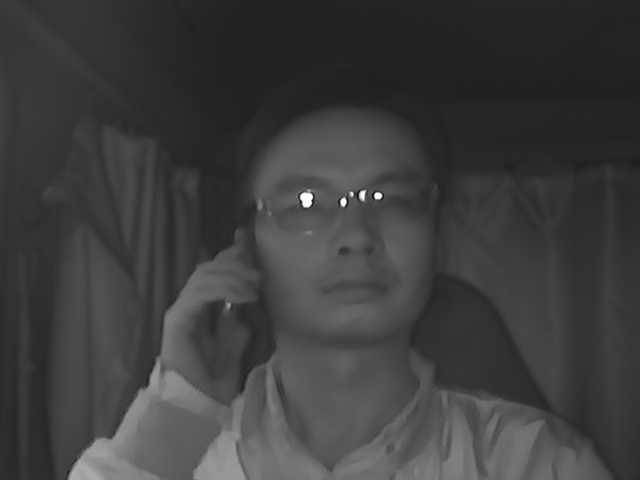hand: (155, 245, 261, 398)
